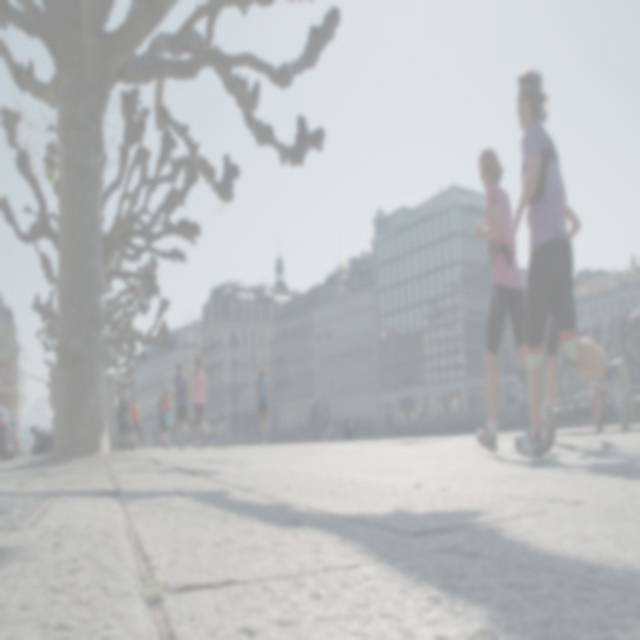pessoa: (504, 61, 636, 467), (471, 145, 560, 459), (544, 308, 608, 443), (172, 359, 191, 452), (192, 354, 208, 450), (254, 366, 272, 446), (159, 386, 173, 450), (130, 394, 142, 446), (132, 404, 144, 452), (157, 392, 167, 443), (321, 416, 336, 442), (437, 396, 450, 419), (201, 417, 210, 447), (342, 416, 350, 440), (235, 424, 242, 447), (366, 412, 374, 429), (184, 418, 189, 444)
